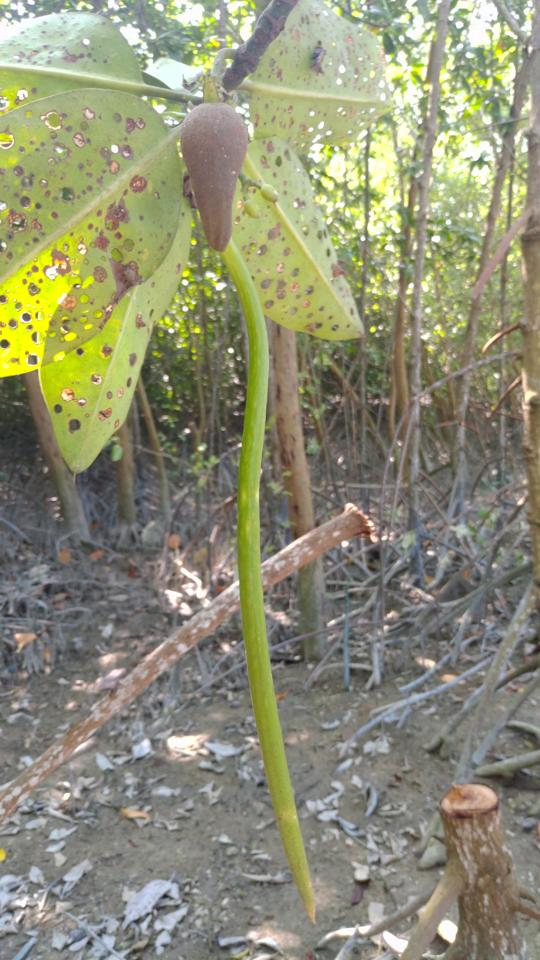mentah: (164, 81, 334, 929)
